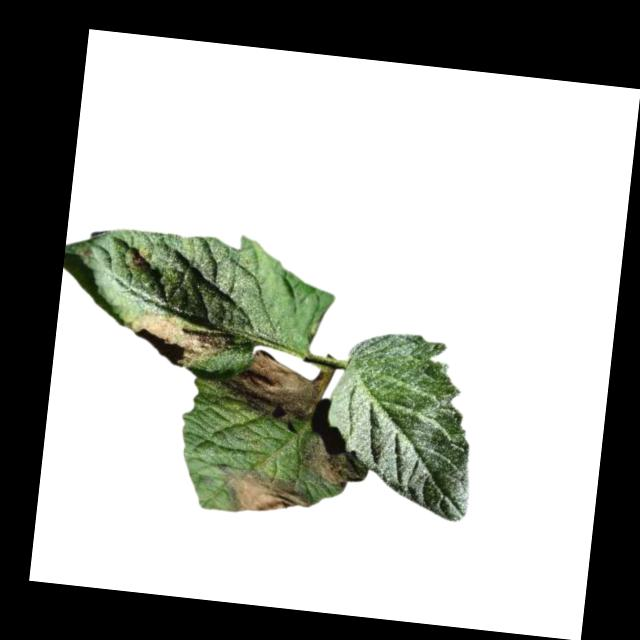Late_blight: (212, 344, 327, 424), (122, 308, 235, 374), (213, 463, 315, 522), (295, 431, 367, 491), (129, 247, 154, 273)
healthy: (316, 324, 488, 524)
